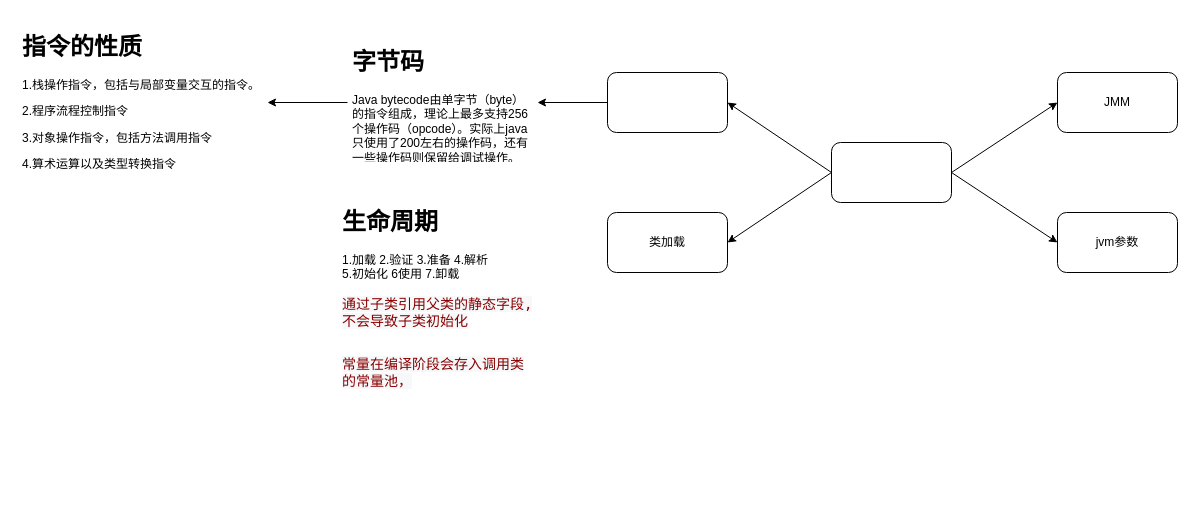
This 1195x519 diagram has some shape labels left out. Here are the shapes that lost their labels. From the top down, the centre of each, then its label:
At point 667,102: "字节码".
At point 891,172: "JVM".
